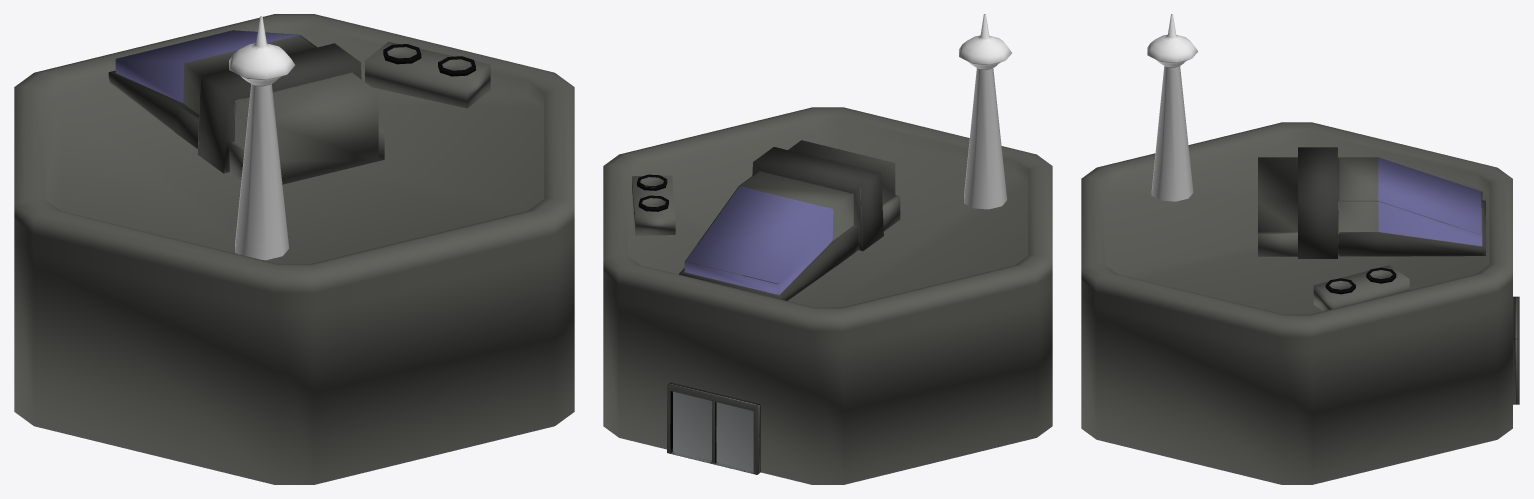
File: MainBase.fbx
3 views of the same model, side by side, from view 1: azimuth 30°, elevation 25°; view 2: azimuth 150°, elevation 25°; view 3: azimuth 270°, elevation 25° (orthographic). The views are drawn at different scales.
Parts seen in each view (by area): view 1: Base, Lookout, Transmiter, Cooling; view 2: Base, Lookout, Door, Transmiter, Cooling; view 3: Base, Lookout, Transmiter, Cooling, Door.
Part boxes in pixels (x1,y1,x2,y2): Base: (14,14,574,484); Lookout: (108,30,384,184); Transmiter: (229,16,295,260); Cooling: (365,41,490,108); Base: (603,107,1052,484); Lookout: (679,140,900,300); Door: (667,382,760,474); Transmiter: (959,14,1011,209); Cooling: (632,174,675,235); Base: (1081,122,1512,484); Lookout: (1258,147,1485,258); Transmiter: (1147,14,1197,201); Cooling: (1313,265,1409,311); Door: (1513,296,1519,404).
Size of the model in its own units: 1.93 by 1.76 by 1.44.
4 materials, 4 textured.
